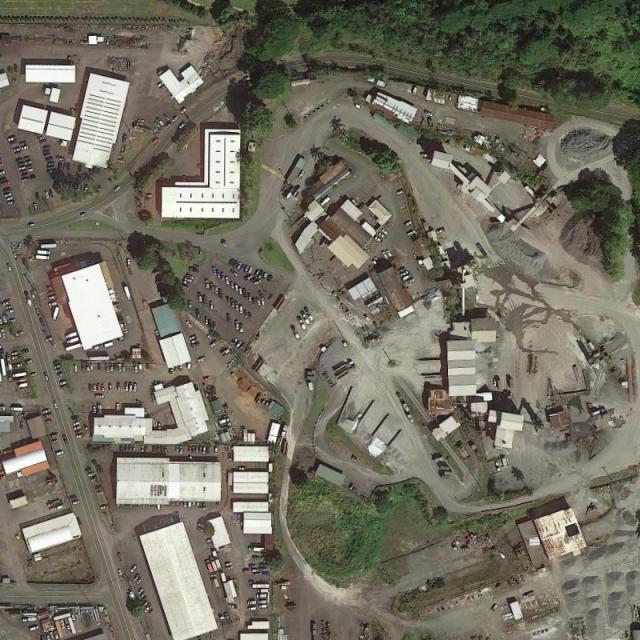vehicle: (209, 556, 219, 572), (123, 286, 133, 302), (206, 559, 214, 574), (52, 306, 60, 321), (249, 547, 264, 554), (35, 255, 50, 261), (37, 250, 51, 256), (185, 320, 194, 329), (14, 372, 27, 378), (62, 434, 69, 445), (400, 270, 409, 278), (54, 450, 64, 457), (424, 110, 434, 117), (7, 139, 16, 146), (190, 267, 199, 274), (27, 222, 37, 228), (44, 372, 50, 382), (113, 187, 121, 194), (179, 122, 186, 130), (172, 115, 180, 122), (38, 318, 45, 326), (230, 270, 238, 277), (243, 265, 250, 273), (182, 284, 190, 291), (210, 341, 218, 348), (375, 236, 383, 243), (386, 250, 393, 258), (382, 251, 389, 259), (154, 330, 161, 338), (157, 118, 164, 126), (6, 136, 15, 142), (2, 187, 11, 193), (59, 380, 68, 386), (3, 300, 12, 306), (2, 314, 8, 323), (14, 332, 23, 338), (49, 433, 58, 439), (51, 439, 60, 445), (258, 271, 264, 280), (267, 274, 273, 283), (184, 277, 193, 283), (226, 314, 232, 323), (75, 430, 84, 436), (54, 369, 64, 374), (48, 302, 58, 307), (94, 485, 104, 490), (205, 444, 210, 454), (45, 418, 52, 425), (404, 275, 411, 282), (231, 338, 238, 345), (130, 566, 137, 573), (134, 575, 141, 582), (138, 588, 145, 595), (203, 633, 210, 640), (17, 162, 25, 168), (18, 166, 26, 172), (43, 190, 49, 198), (54, 364, 62, 370), (45, 336, 53, 342), (1, 330, 7, 338), (68, 495, 76, 501), (246, 275, 254, 281), (229, 258, 235, 266), (196, 310, 202, 318), (192, 342, 200, 348), (6, 263, 11, 272), (33, 301, 38, 310), (212, 267, 217, 276), (235, 321, 240, 330), (198, 293, 203, 302), (229, 605, 238, 610), (210, 631, 215, 640), (13, 147, 20, 153), (80, 212, 87, 218), (181, 107, 187, 114), (152, 138, 158, 145), (30, 372, 37, 378), (25, 358, 32, 364), (254, 280, 261, 286), (236, 263, 242, 270), (237, 341, 243, 348), (136, 578, 142, 585), (6, 197, 14, 202), (33, 203, 38, 211), (4, 193, 12, 198), (1, 181, 9, 186), (90, 478, 98, 483), (96, 491, 104, 496), (7, 310, 15, 315), (8, 319, 16, 324), (42, 409, 50, 414), (100, 505, 108, 510), (262, 272, 267, 280), (258, 290, 263, 298), (257, 298, 262, 306), (249, 266, 254, 274), (186, 274, 194, 279), (214, 286, 219, 294), (406, 280, 414, 285), (239, 323, 243, 333), (202, 297, 207, 305), (225, 566, 233, 571), (118, 570, 123, 578), (71, 415, 79, 420), (128, 445, 133, 453), (258, 590, 268, 594), (12, 254, 18, 260), (106, 362, 110, 371), (134, 363, 138, 372), (231, 298, 235, 307), (206, 279, 210, 288), (405, 221, 411, 227), (30, 627, 39, 631), (144, 608, 150, 614), (116, 382, 120, 391), (98, 405, 102, 414), (141, 593, 147, 599), (257, 594, 266, 598), (19, 142, 26, 147), (34, 192, 39, 199), (57, 373, 64, 378), (87, 473, 94, 478), (72, 501, 79, 506), (254, 270, 259, 277), (437, 229, 444, 234), (382, 230, 389, 235), (191, 340, 198, 345), (149, 610, 154, 617), (145, 363, 150, 370), (39, 139, 46, 144), (18, 243, 22, 251), (11, 244, 15, 252), (82, 364, 86, 372), (86, 363, 90, 371), (90, 364, 94, 372), (110, 363, 114, 371), (114, 362, 118, 370), (138, 363, 142, 371), (6, 306, 14, 310), (109, 383, 113, 391), (238, 287, 242, 295), (244, 309, 248, 317), (210, 283, 214, 291), (493, 378, 497, 386), (209, 320, 213, 328), (206, 318, 210, 326), (210, 302, 214, 310), (214, 446, 218, 454), (239, 467, 247, 471), (198, 358, 206, 362), (192, 446, 196, 454), (134, 382, 138, 390), (95, 394, 103, 398), (93, 406, 97, 414), (77, 183, 81, 191), (16, 158, 22, 163), (1, 170, 6, 176), (380, 234, 386, 239), (21, 146, 28, 150), (22, 178, 29, 182), (23, 156, 30, 160), (74, 365, 78, 372), (118, 364, 122, 371), (12, 351, 19, 355), (54, 402, 58, 409), (262, 299, 266, 306), (230, 282, 234, 289), (217, 271, 221, 278), (249, 312, 253, 319), (226, 296, 230, 303), (188, 446, 192, 453), (175, 446, 179, 453), (73, 422, 80, 426), (74, 426, 81, 430), (119, 446, 123, 453), (84, 185, 88, 192), (56, 157, 63, 161), (127, 258, 130, 267), (26, 161, 32, 165), (93, 384, 96, 392), (101, 383, 104, 391), (226, 278, 230, 284), (236, 302, 239, 310), (219, 290, 222, 298), (241, 266, 245, 272), (214, 322, 217, 330), (188, 302, 191, 310), (202, 446, 205, 454), (180, 446, 183, 454), (117, 403, 120, 411), (125, 445, 128, 453), (144, 446, 147, 454), (157, 445, 160, 453), (248, 602, 256, 605), (259, 601, 267, 604), (253, 569, 259, 573), (98, 363, 101, 370), (122, 364, 125, 371), (89, 383, 92, 390), (97, 383, 100, 390), (243, 289, 246, 296), (240, 306, 243, 313), (199, 446, 202, 453), (133, 445, 136, 452), (141, 445, 144, 452), (153, 445, 156, 452), (161, 446, 164, 453), (164, 446, 167, 453), (249, 608, 256, 611), (259, 606, 266, 609), (226, 562, 231, 566), (198, 635, 202, 640), (253, 298, 256, 304), (235, 261, 238, 267), (1, 316, 3, 324), (236, 284, 238, 292), (125, 382, 127, 390), (249, 294, 251, 301), (222, 272, 224, 279), (196, 446, 198, 453), (130, 383, 132, 390), (243, 570, 250, 572), (38, 137, 45, 139), (41, 638, 43, 640)
